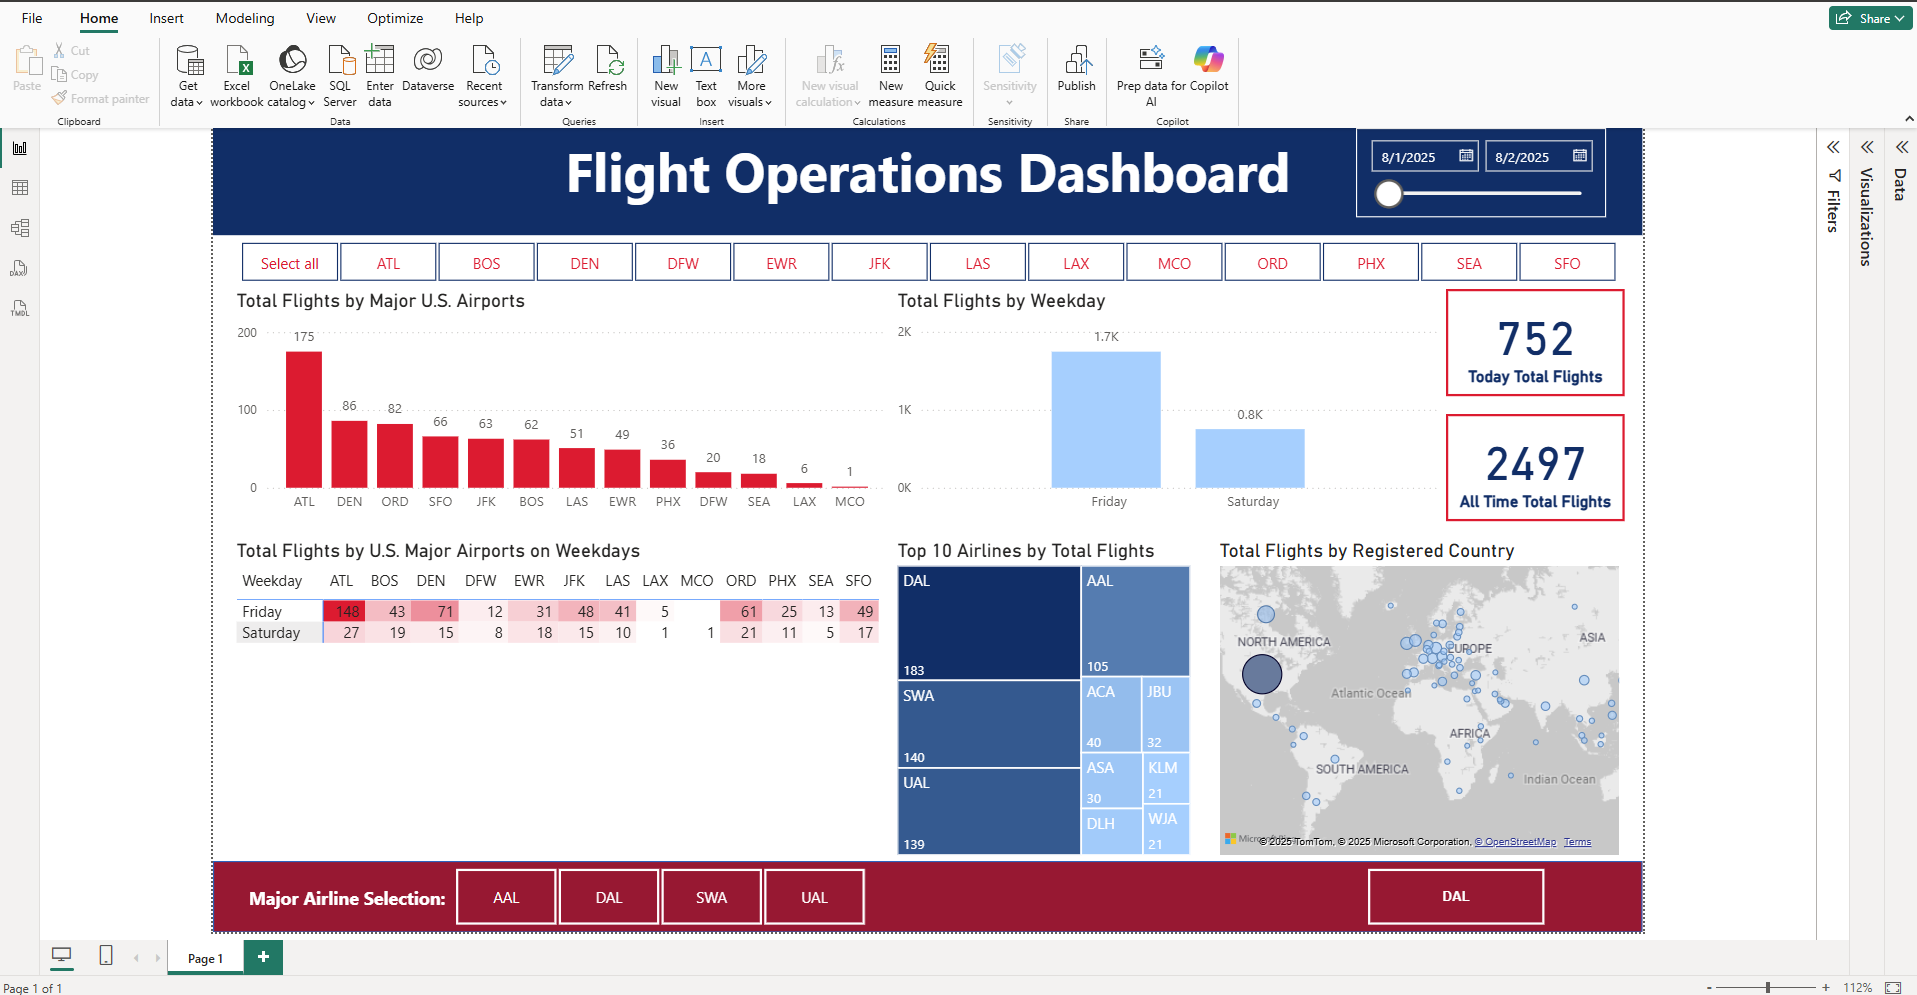

The page's visual inventory and layout, read from the dashboard file:
{"tool":"powerbi","page":{"name":"Page 1","canvas":[1280,720],"ordinal":0},"visuals":[{"type":"shape","box":[0,656,1280,64],"z":0},{"type":"textbox","box":[0,0,1280,96],"z":1000},{"type":"clusteredColumnChart","title":"Total Flights by Major U.S. Airports","fields":{"Category":["public OpenSkyApi.nearest_airport"],"Y":["public OpenSkyApi.Total Flights"]},"box":[16,144,592,208],"z":2000},{"type":"map","title":"Total Flights by Registered  Country","fields":{"Size":["public OpenSkyApi.Total Flights"],"Category":["public OpenSkyApi.origin_country"]},"box":[896,368,368,288],"z":3000},{"type":"columnChart","title":"Total Flights by Weekday","fields":{"Category":["public OpenSkyApi.Weekday"],"Y":["public OpenSkyApi.Total Flights"]},"box":[608,144,496,208],"z":4000},{"type":"pivotTable","title":"Total Flights by U.S. Major Airports on Weekdays","fields":{"Values":["public OpenSkyApi.Total Flights"],"Columns":["public OpenSkyApi.nearest_airport"],"Rows":["public OpenSkyApi.Weekday"]},"box":[16,368,592,288],"z":5000},{"type":"card","title":"Today Total Flights ","fields":{"Values":["public OpenSkyApi.Total Flights"]},"box":[1104,144,160,96],"z":6000},{"type":"card","title":"All Time Total Flights","fields":{"Values":["public OpenSkyApi.Total Flights"]},"box":[1104,256,160,96],"z":7000},{"type":"treemap","title":"Top 10 Airlines by Total Flights","fields":{"Values":["public OpenSkyApi.Total Flights"],"Group":["public OpenSkyApi.Airline Code"]},"box":[608,368,272,288],"z":8000},{"type":"slicer","fields":{"Values":["public OpenSkyApi.Airline Code"]},"box":[192,656,416,64],"z":9000},{"type":"slicer","fields":{"Values":["public OpenSkyApi.datetime"]},"box":[1024,0,224,80],"z":10000},{"type":"slicer","fields":{"Values":["public OpenSkyApi.Airline Code"]},"box":[1008,656,208,64],"z":11000},{"type":"slicer","fields":{"Values":["public OpenSkyApi.nearest_airport"]},"box":[0,96,1280,48],"z":12000},{"type":"textbox","box":[0,656,240,64],"z":12001}]}

Visuals, with their boxes on the page's 1280x720 design canvas (x1, y1, x2, y2). These are canvas units, not pixel positions in the 1917x995 screenshot, which may show the page scaled, cropped or inside an application window:
shape: {"left": 0, "top": 656, "right": 1280, "bottom": 720}
textbox: {"left": 0, "top": 0, "right": 1280, "bottom": 96}
"Total Flights by Major U.S. Airports" clusteredColumnChart: {"left": 16, "top": 144, "right": 608, "bottom": 352}
"Total Flights by Registered  Country" map: {"left": 896, "top": 368, "right": 1264, "bottom": 656}
"Total Flights by Weekday" columnChart: {"left": 608, "top": 144, "right": 1104, "bottom": 352}
"Total Flights by U.S. Major Airports on Weekdays" pivotTable: {"left": 16, "top": 368, "right": 608, "bottom": 656}
"Today Total Flights " card: {"left": 1104, "top": 144, "right": 1264, "bottom": 240}
"All Time Total Flights" card: {"left": 1104, "top": 256, "right": 1264, "bottom": 352}
"Top 10 Airlines by Total Flights" treemap: {"left": 608, "top": 368, "right": 880, "bottom": 656}
slicer - public OpenSkyApi.Airline Code: {"left": 192, "top": 656, "right": 608, "bottom": 720}
slicer - public OpenSkyApi.datetime: {"left": 1024, "top": 0, "right": 1248, "bottom": 80}
slicer - public OpenSkyApi.Airline Code: {"left": 1008, "top": 656, "right": 1216, "bottom": 720}
slicer - public OpenSkyApi.nearest_airport: {"left": 0, "top": 96, "right": 1280, "bottom": 144}
textbox: {"left": 0, "top": 656, "right": 240, "bottom": 720}
